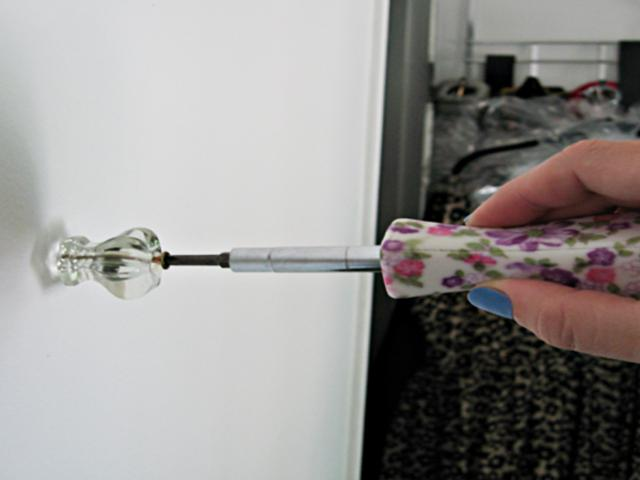Door-handle: (43, 220, 166, 301)
